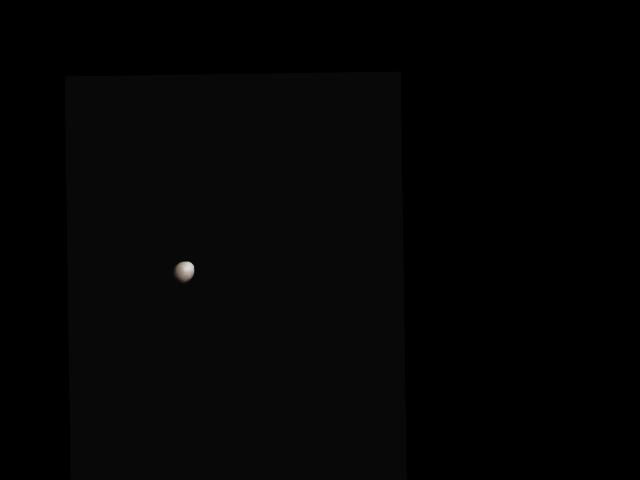egg: (171, 261, 194, 284)
